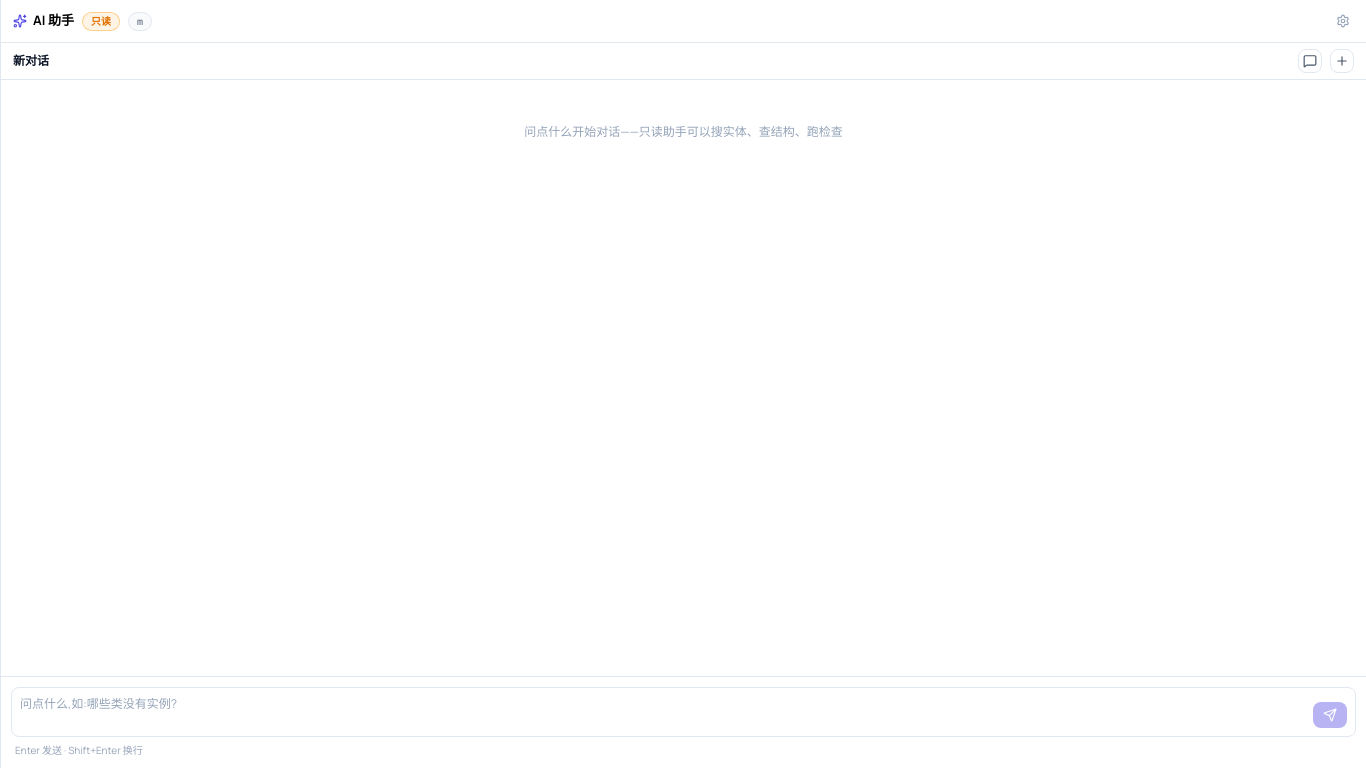
AiChatDrawer › clears a dead session pointer when the next send 404s
The image size is (1366, 768).
Expected: the text "AI 助手" is shown, [13,11,74,31]
Type "第一问" into the text box with placeholder "问点什么,如:哪些类没有实例?" at (662, 712), box [20,696,1305,728]
Then press Enter
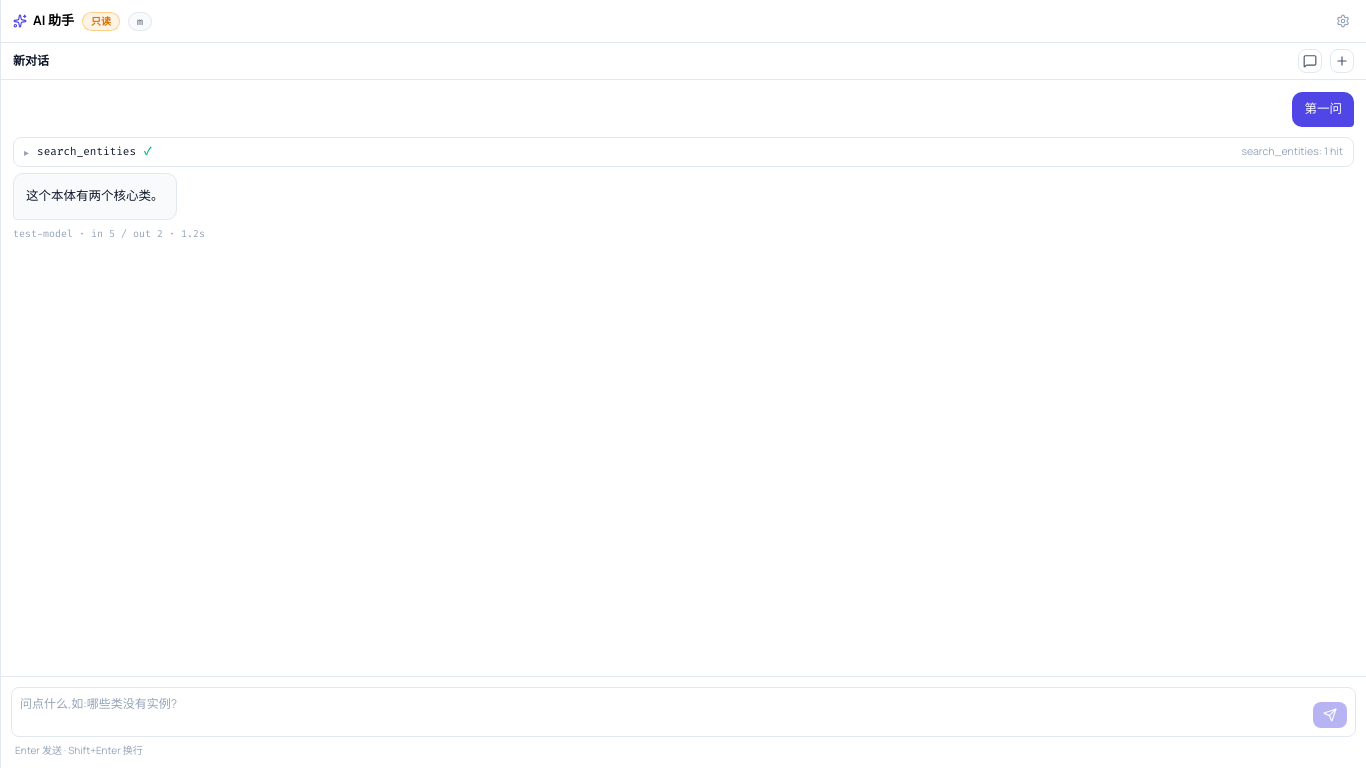
Expected: the text "这个本体有两个核心类。" is shown, [26,186,164,207]
Type "第二问" into the text box with placeholder "问点什么,如:哪些类没有实例?" at (662, 712), box [20,696,1305,728]
Then press Enter
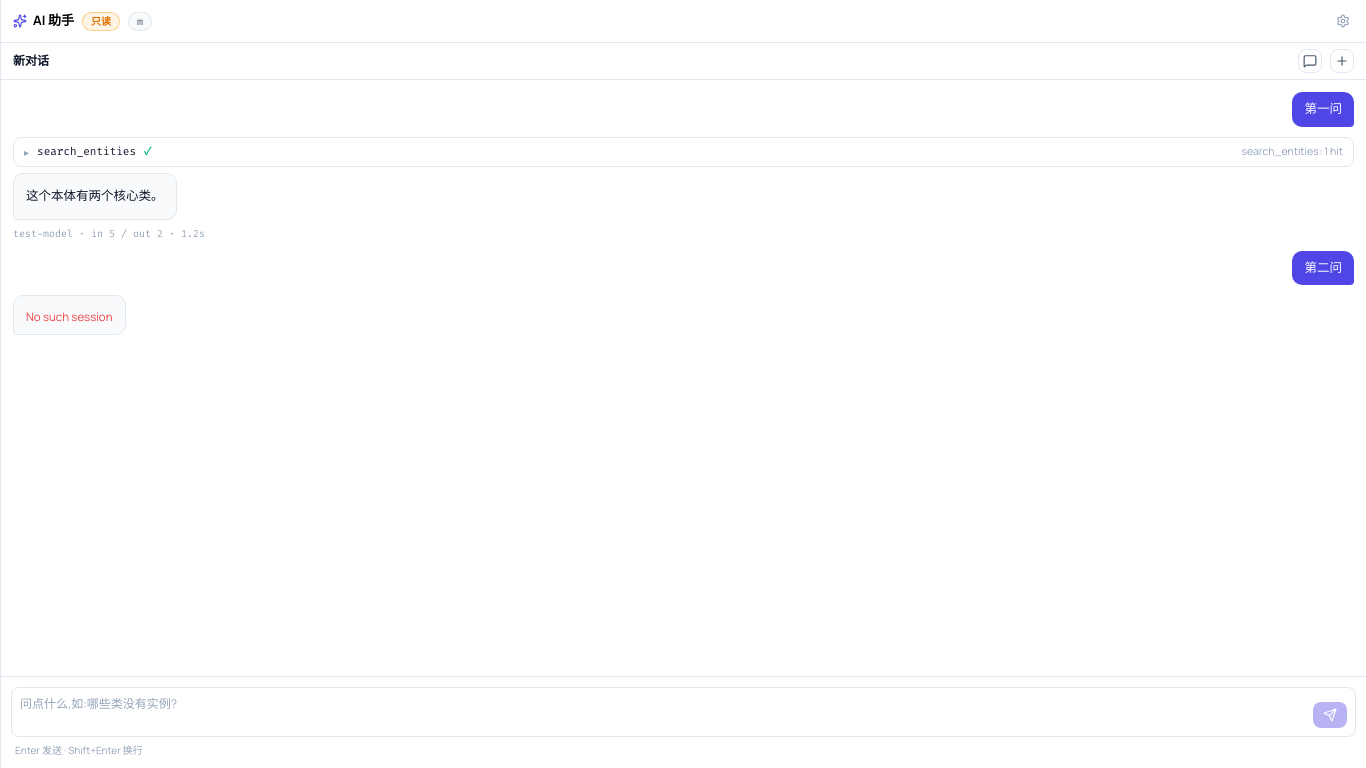
Expected: the text "No such session" is shown, [26,308,112,326]
